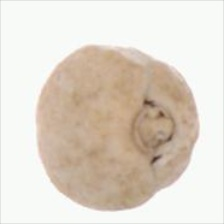L3: (133, 96, 179, 167)
L4: (35, 46, 200, 211)
